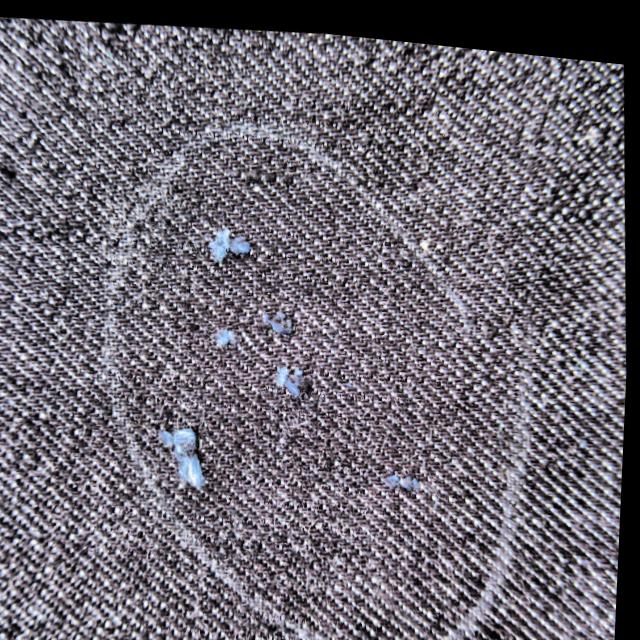Hole: (168, 383, 214, 492), (203, 209, 269, 266), (273, 350, 314, 393), (383, 454, 426, 489), (211, 308, 243, 341), (267, 298, 299, 327)
